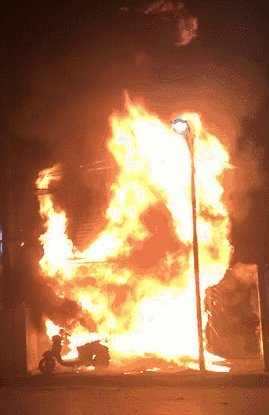fire: (41, 101, 242, 385)
